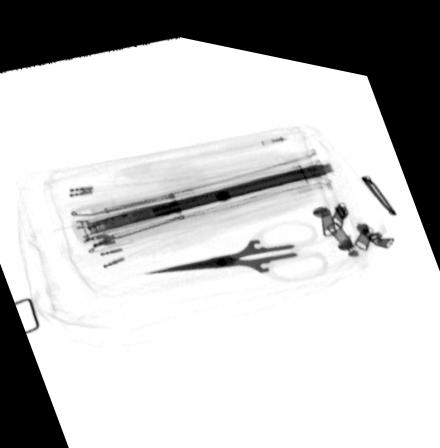Scissors: (144, 205, 332, 269)
